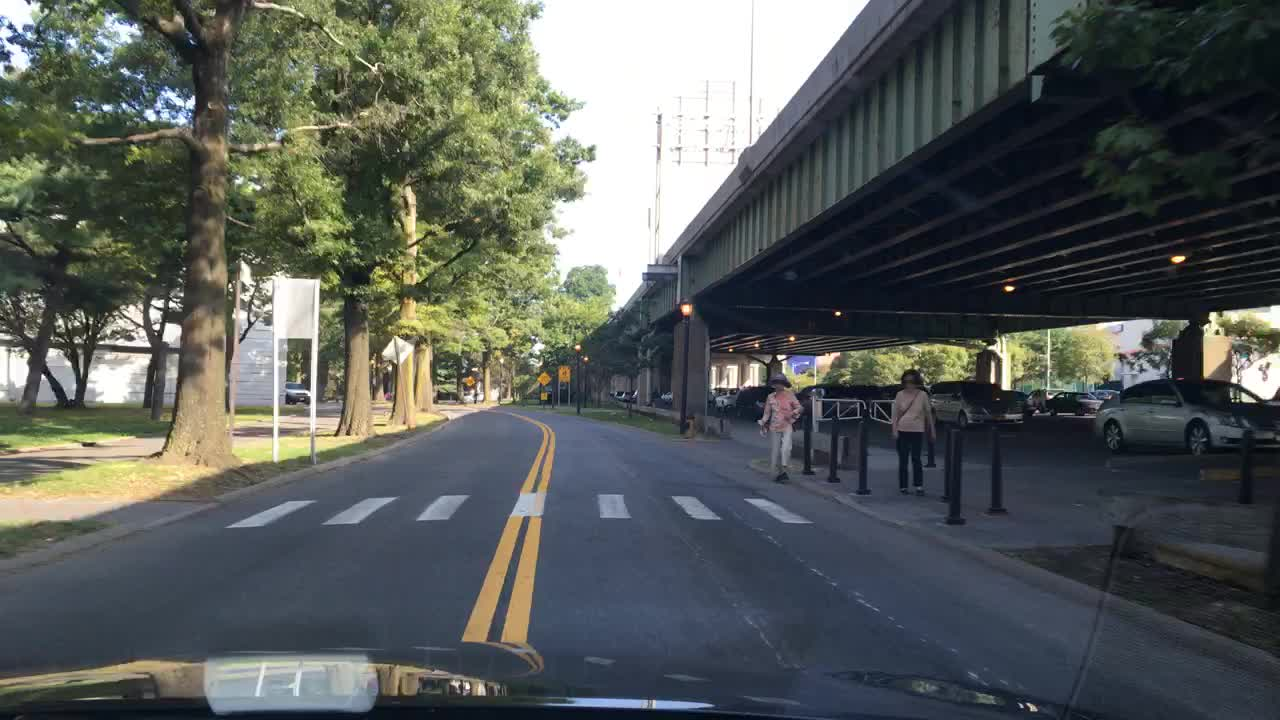car: (1086, 374, 1278, 457), (929, 379, 1029, 426), (1038, 389, 1105, 416), (793, 378, 844, 412), (284, 376, 306, 404), (716, 383, 737, 411), (850, 384, 875, 403), (880, 381, 904, 399), (1095, 388, 1119, 404), (657, 390, 675, 408), (616, 391, 632, 403), (461, 391, 471, 405)
person: (884, 369, 940, 496), (754, 373, 804, 486)
traffic sign: (272, 275, 314, 336), (383, 336, 410, 366), (557, 365, 571, 385), (457, 374, 476, 388), (536, 374, 551, 388), (539, 391, 546, 404)
